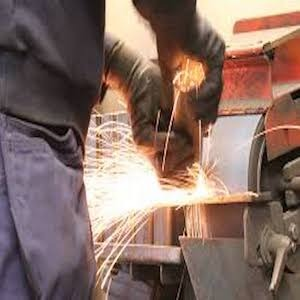heat: (101, 157, 212, 212)
